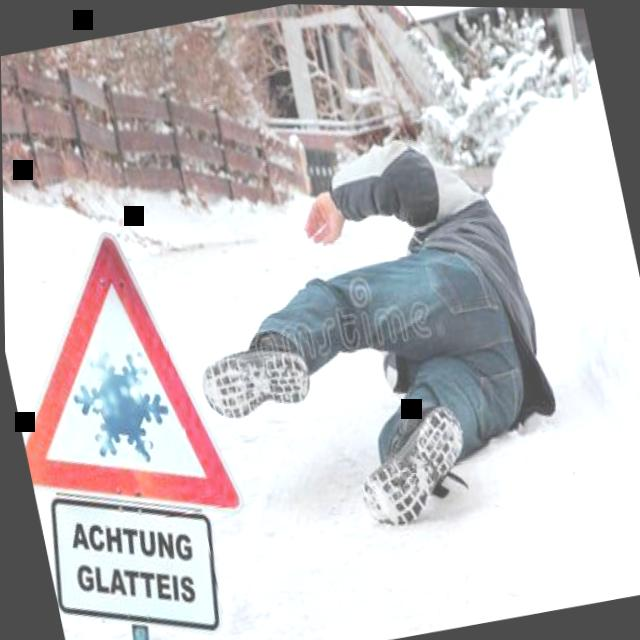Fall-Detected: (155, 78, 588, 554)
